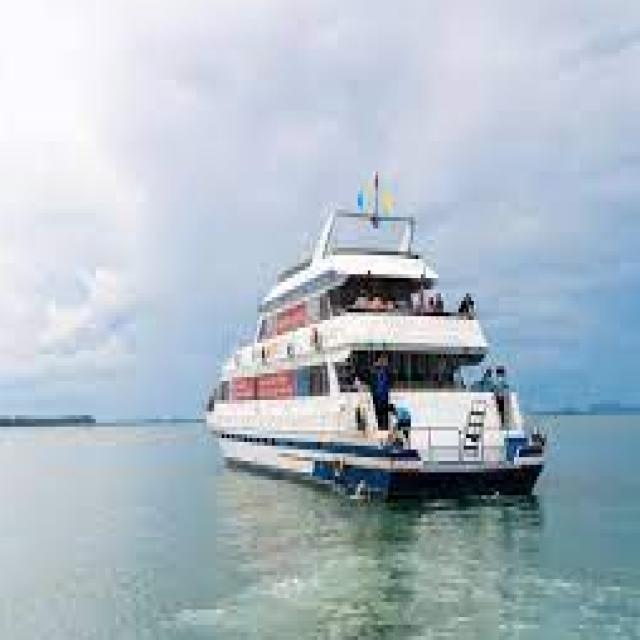houseboat: (200, 184, 546, 499)
